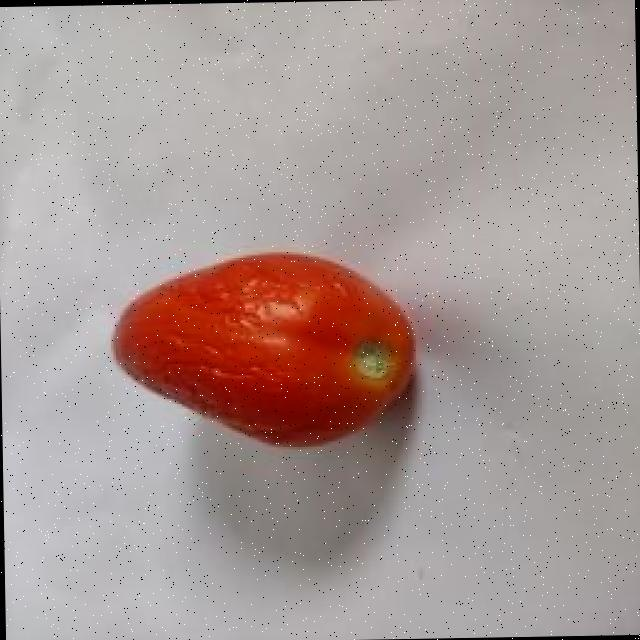overripe: (107, 247, 426, 456)
